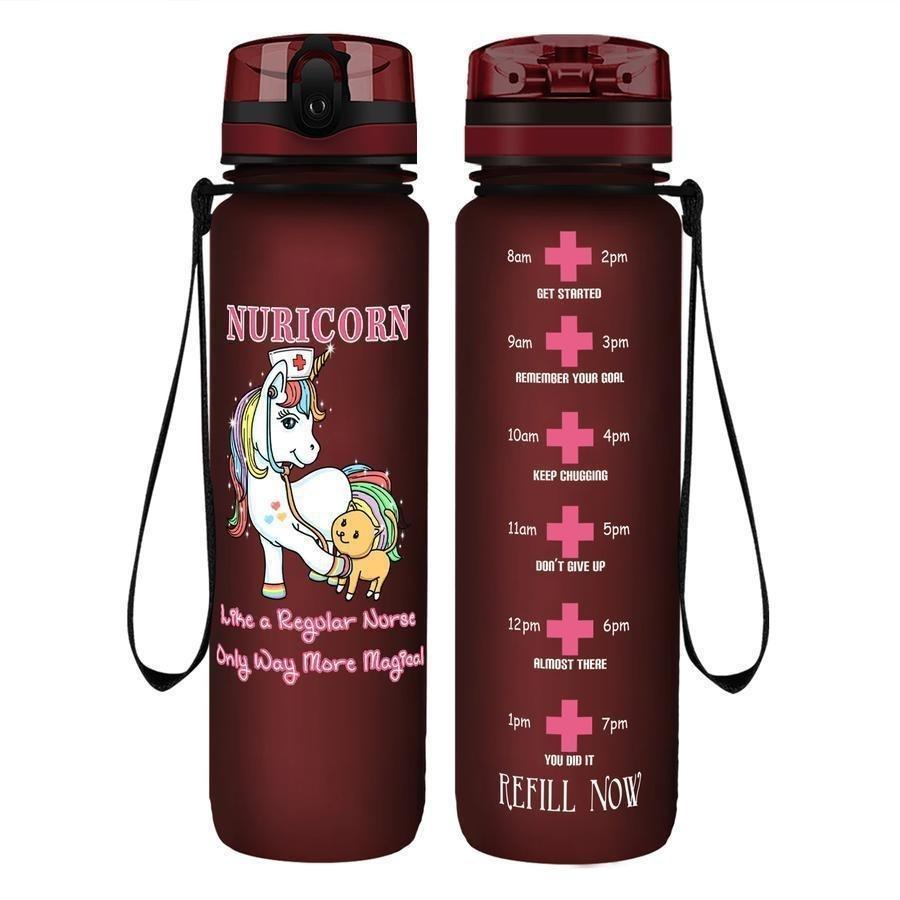gym bottle: (447, 21, 695, 874), (189, 25, 439, 870)
